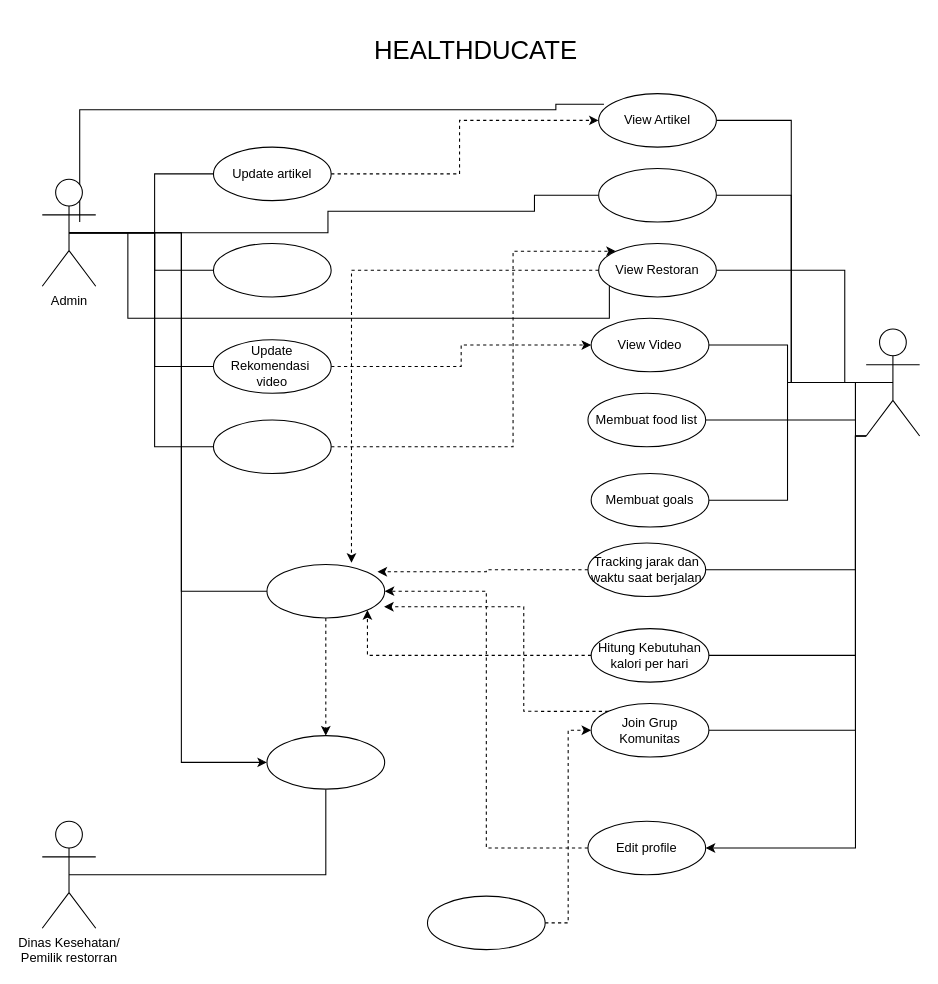
Some shapes in this 938 by 984 pixel diagram are drawn without their labels. The box of each missing label's shape, as (x1, y1, x2, y2) in pixels:
Chat grup: (426, 895, 545, 950)
Monitoring System: (266, 563, 385, 618)
Update makanan: (212, 242, 331, 297)
Update Rekomendasi restoran: (212, 419, 331, 473)
User: (865, 328, 920, 436)
View Resep & detail makanan: (598, 167, 716, 222)
View ringkasan laporan: (266, 735, 385, 789)
